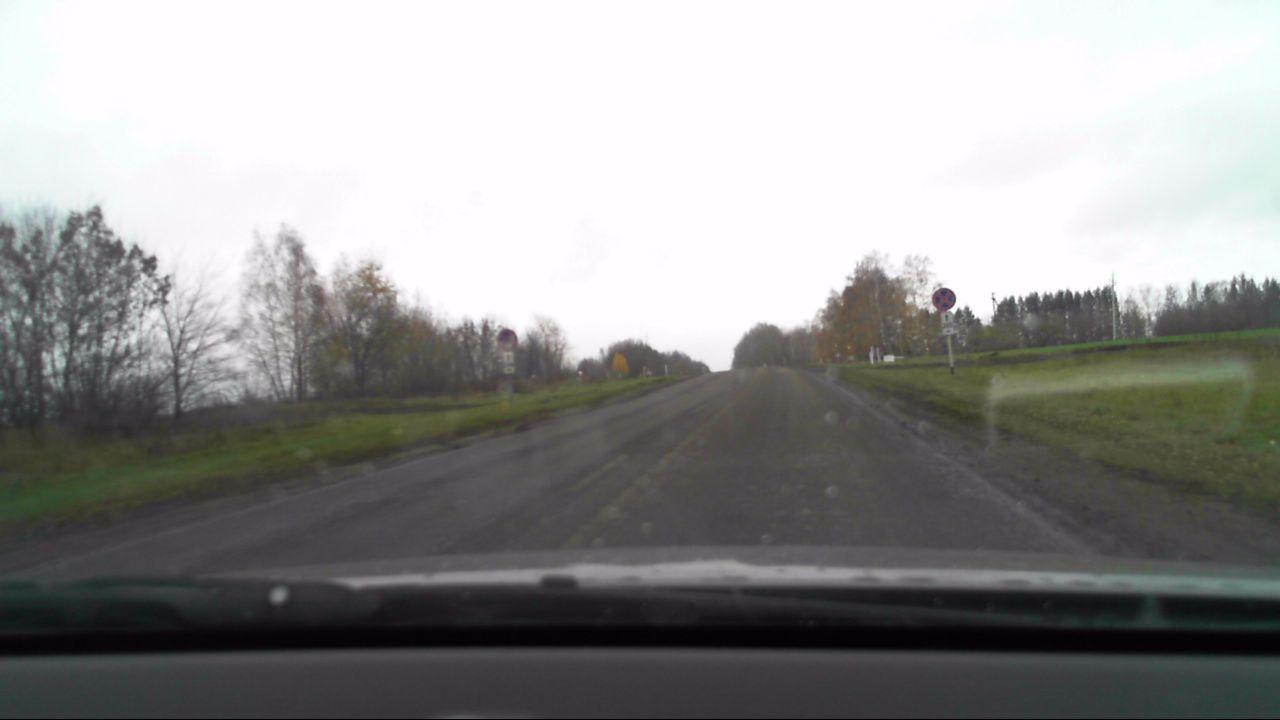3_27: (929, 283, 957, 311), (498, 327, 517, 348)
8_2_2: (940, 311, 956, 337), (502, 351, 518, 374)
